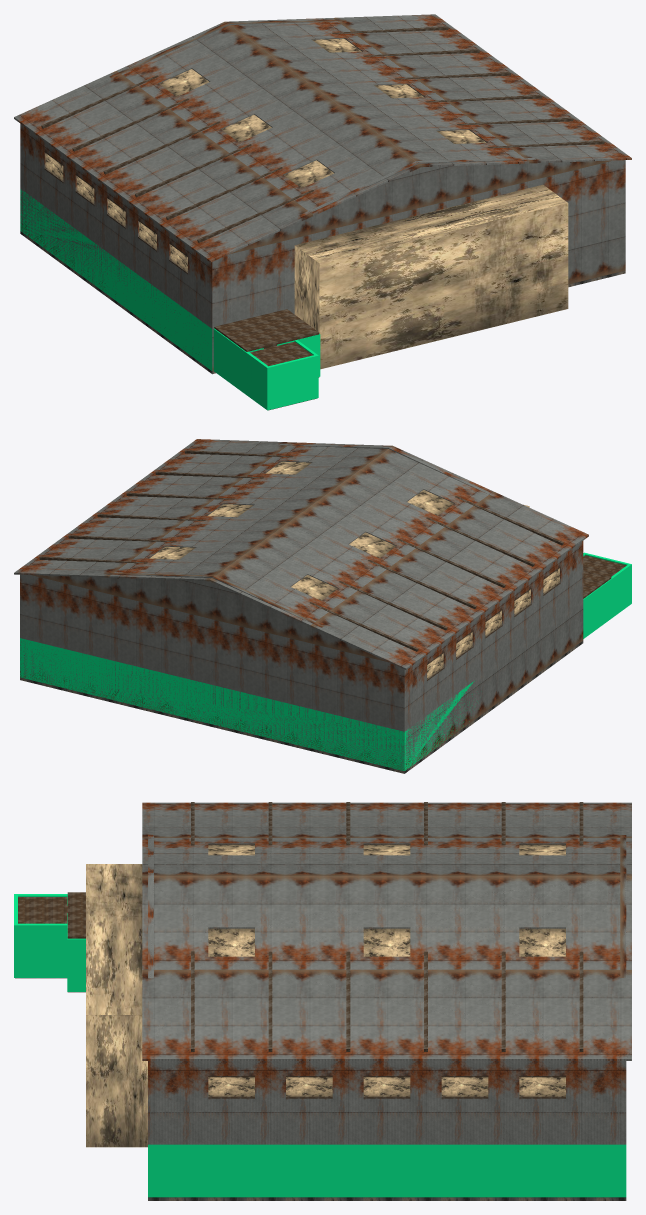
The model's file is hangar_shell_30m.glb.
3 views of the same model, one above another, from view 1: azimuth 30°, elevation 25°; view 2: azimuth 150°, elevation 25°; view 3: azimuth 270°, elevation 25° (orthographic). The views are drawn at different scales.
Parts seen in each view (by area): view 1: Hangar_Roof, Hangar_Walls, StormOutside, COL_Wall_W, Hangar_Timber, Hangar_WindowGlass, Survey_Rooms, COL_Dark_Back, COL_Survey_W, COL_Dark_W, Hangar_Floor; view 2: Hangar_Roof, Hangar_Walls, COL_Wall_N, Hangar_Timber, Hangar_WindowGlass, Hangar_Floor, COL_Wall_W, COL_Survey_W, Survey_Rooms, COL_Dark_W; view 3: Hangar_Roof, Hangar_Walls, COL_Wall_E, StormOutside, Hangar_WindowGlass, Hangar_Timber, COL_Dark_E, Survey_Rooms, Hangar_Floor, COL_Survey_E.
Boxes of the visible parts, left/top/right/bottom form: Hangar_Roof: left=14, top=14, right=631, bottom=262; Hangar_Walls: left=20, top=19, right=625, bottom=371; StormOutside: left=294, top=184, right=568, bottom=369; COL_Wall_W: left=20, top=189, right=212, bottom=370; Hangar_Timber: left=41, top=26, right=604, bottom=273; Hangar_WindowGlass: left=45, top=38, right=486, bottom=272; Survey_Rooms: left=214, top=309, right=319, bottom=410; COL_Dark_Back: left=266, top=354, right=318, bottom=409; COL_Survey_W: left=213, top=328, right=244, bottom=393; COL_Dark_W: left=244, top=351, right=269, bottom=410; Hangar_Floor: left=20, top=231, right=625, bottom=374; Hangar_Roof: left=14, top=439, right=588, bottom=669; Hangar_Walls: left=20, top=443, right=583, bottom=771; COL_Wall_N: left=20, top=638, right=406, bottom=770; Hangar_Timber: left=39, top=450, right=563, bottom=680; Hangar_WindowGlass: left=149, top=461, right=559, bottom=678; Hangar_Floor: left=20, top=641, right=583, bottom=773; COL_Wall_W: left=401, top=681, right=477, bottom=770; COL_Survey_W: left=583, top=579, right=611, bottom=638; Survey_Rooms: left=583, top=555, right=626, bottom=598; COL_Dark_W: left=610, top=564, right=630, bottom=617; Hangar_Roof: left=142, top=802, right=631, bottom=1060; Hangar_Walls: left=148, top=835, right=626, bottom=1144; COL_Wall_E: left=148, top=1144, right=626, bottom=1197; StormOutside: left=86, top=864, right=147, bottom=1147; Hangar_WindowGlass: left=208, top=844, right=565, bottom=1096; Hangar_Timber: left=191, top=802, right=583, bottom=1098; COL_Dark_E: left=18, top=923, right=67, bottom=977; Survey_Rooms: left=15, top=892, right=85, bottom=992; Hangar_Floor: left=148, top=1197, right=626, bottom=1200; COL_Survey_E: left=67, top=938, right=85, bottom=991.
Size of the model in its own units: 31.2 by 11.4 by 31.8.
Materials: 18 (9 with a texture image).
